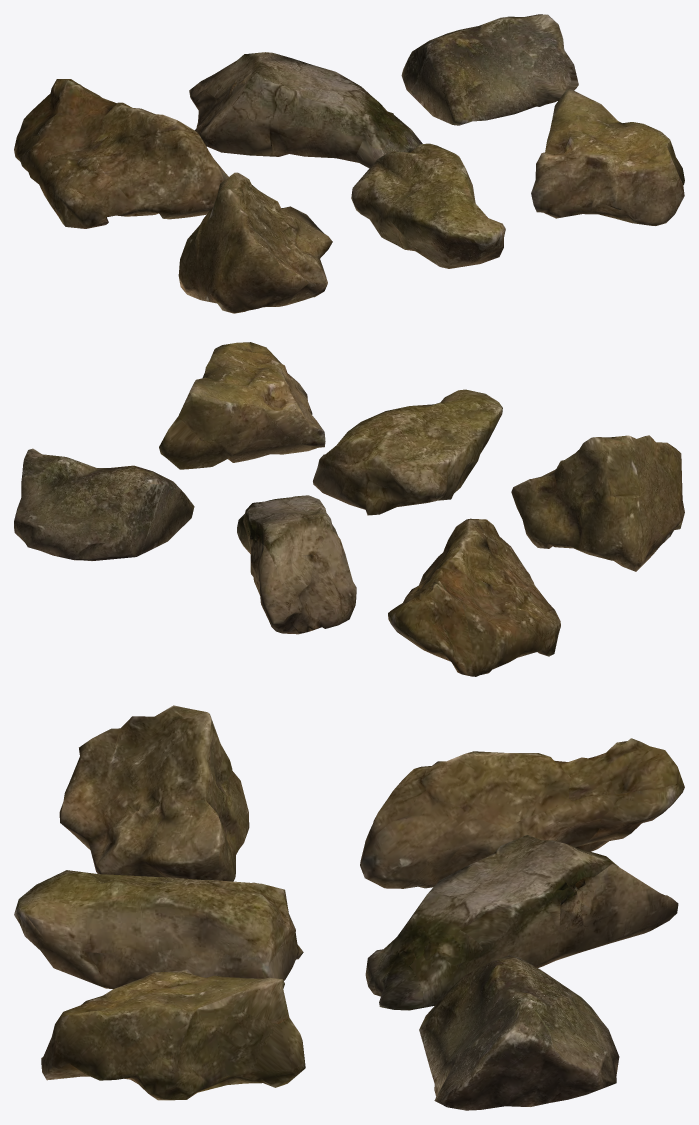
File: rock_moss_set_01.glb
3 views of the same model, one above another, from view 1: azimuth 30°, elevation 25°; view 2: azimuth 150°, elevation 25°; view 3: azimuth 270°, elevation 25° (orthographic). The views are drawn at different scales.
Visible parts, largest first — view 1: rock_moss_set_01_rock01; view 2: rock_moss_set_01_rock01; view 3: rock_moss_set_01_rock01.
Boxes of the visible parts, bbox=[...] form: rock_moss_set_01_rock01: bbox=[14, 14, 684, 313]; rock_moss_set_01_rock01: bbox=[14, 342, 684, 676]; rock_moss_set_01_rock01: bbox=[14, 705, 684, 1110].
Size of the model in its own units: 8 by 1.76 by 6.94.
Materials: 1 (1 with a texture image).
